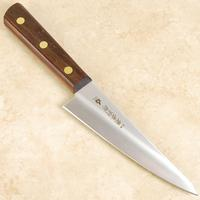knife: (4, 3, 199, 197)
